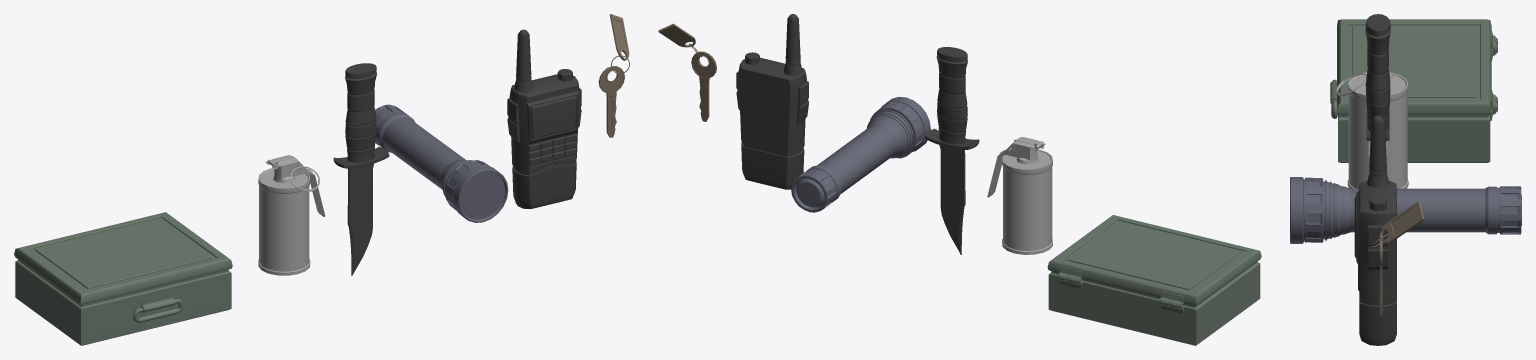
3 views of the same model, side by side, from view 1: azimuth 30°, elevation 25°; view 2: azimuth 150°, elevation 25°; view 3: azimuth 270°, elevation 25° (orthographic). The views are drawn at different scales.
Parts seen in each view (by area): view 1: medkit, walkietalkie, flashlight, pCube3, knife, key; view 2: medkit, walkietalkie, flashlight, pCube3, knife, key; view 3: medkit, flashlight, walkietalkie, pCube3, knife, key.
Boxes of the visible parts, box(x1,y1,x2,y2) form: medkit: box(14, 212, 232, 345); walkietalkie: box(507, 29, 581, 208); flashlight: box(375, 104, 508, 222); pCube3: box(258, 155, 325, 275); knife: box(333, 63, 389, 275); key: box(598, 14, 629, 137); medkit: box(1047, 215, 1261, 345); walkietalkie: box(736, 14, 808, 189); flashlight: box(791, 97, 930, 212); pCube3: box(987, 137, 1052, 254); knife: box(925, 47, 979, 254); key: box(658, 23, 716, 121); medkit: box(1330, 19, 1497, 162); flashlight: box(1290, 177, 1521, 243); walkietalkie: box(1354, 115, 1396, 345); pCube3: box(1336, 67, 1408, 188); knife: box(1365, 14, 1390, 140); key: box(1372, 201, 1424, 317).
Size of the model in its own units: 10.92 by 3.7 by 3.26.
